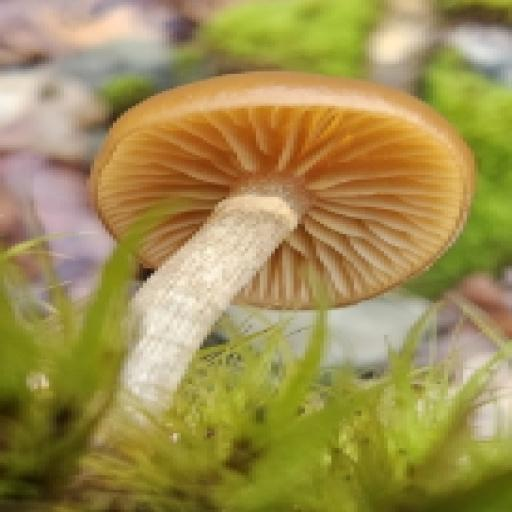mushroom: (75, 64, 484, 383)
